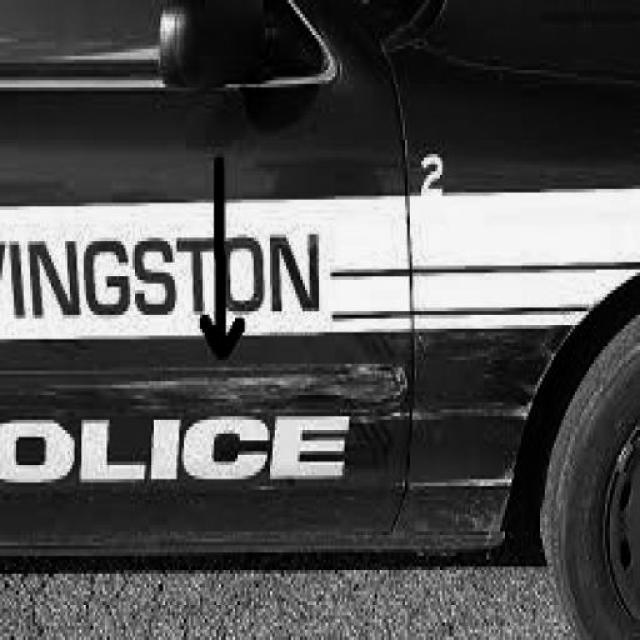car damage: (396, 308, 579, 556), (29, 353, 421, 418)
